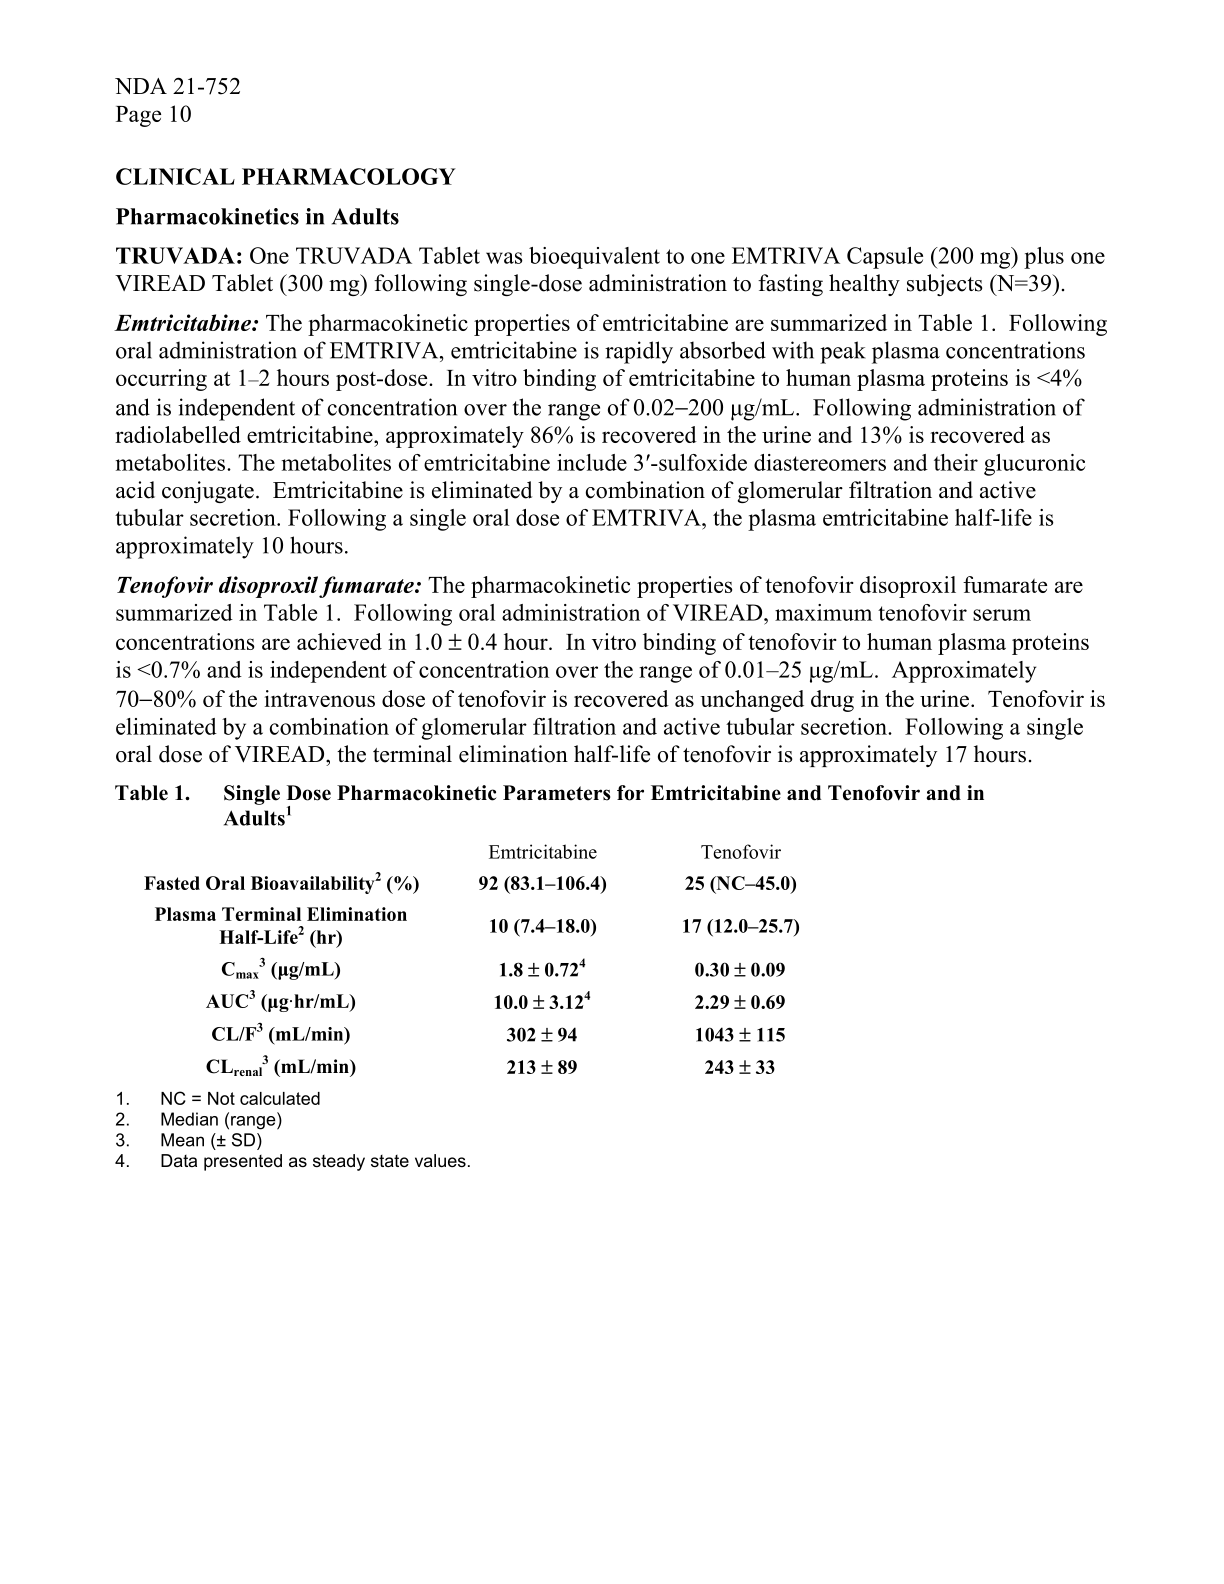nolines: (144, 842, 802, 1077)
